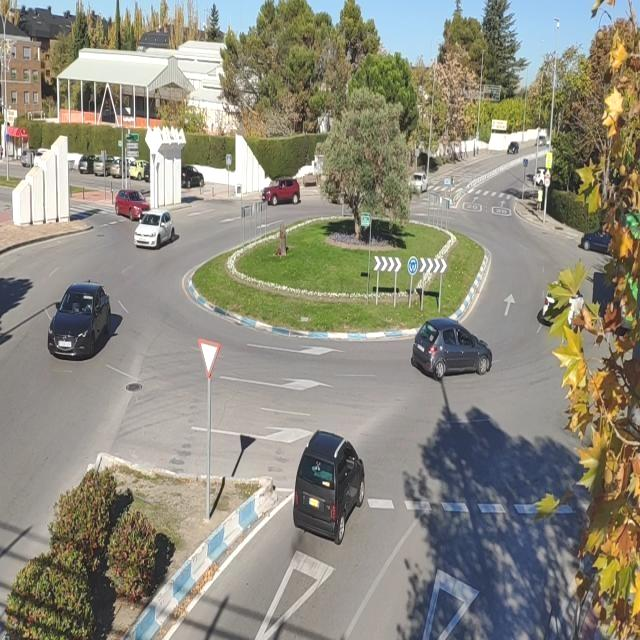Car: (290, 426, 371, 546), (46, 279, 114, 363), (409, 317, 498, 380), (133, 208, 176, 252), (115, 188, 153, 222), (260, 176, 302, 206)
